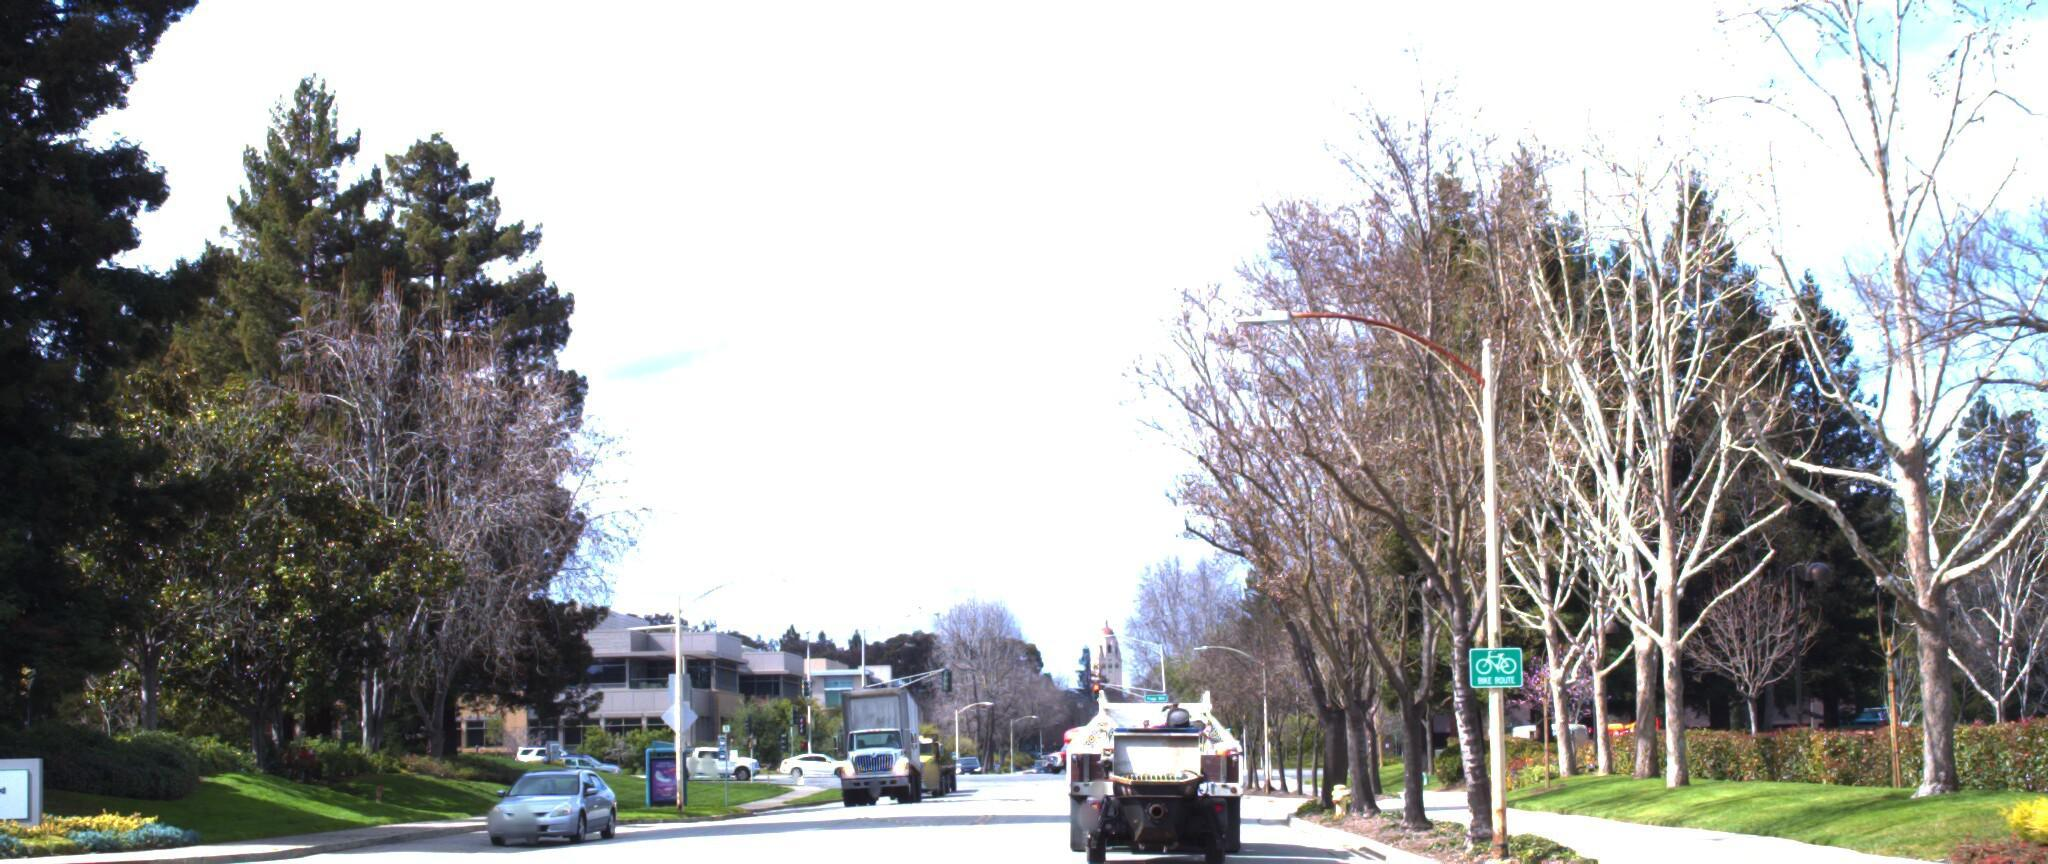car: (483, 766, 620, 854)
truck: (1015, 676, 1243, 864)
